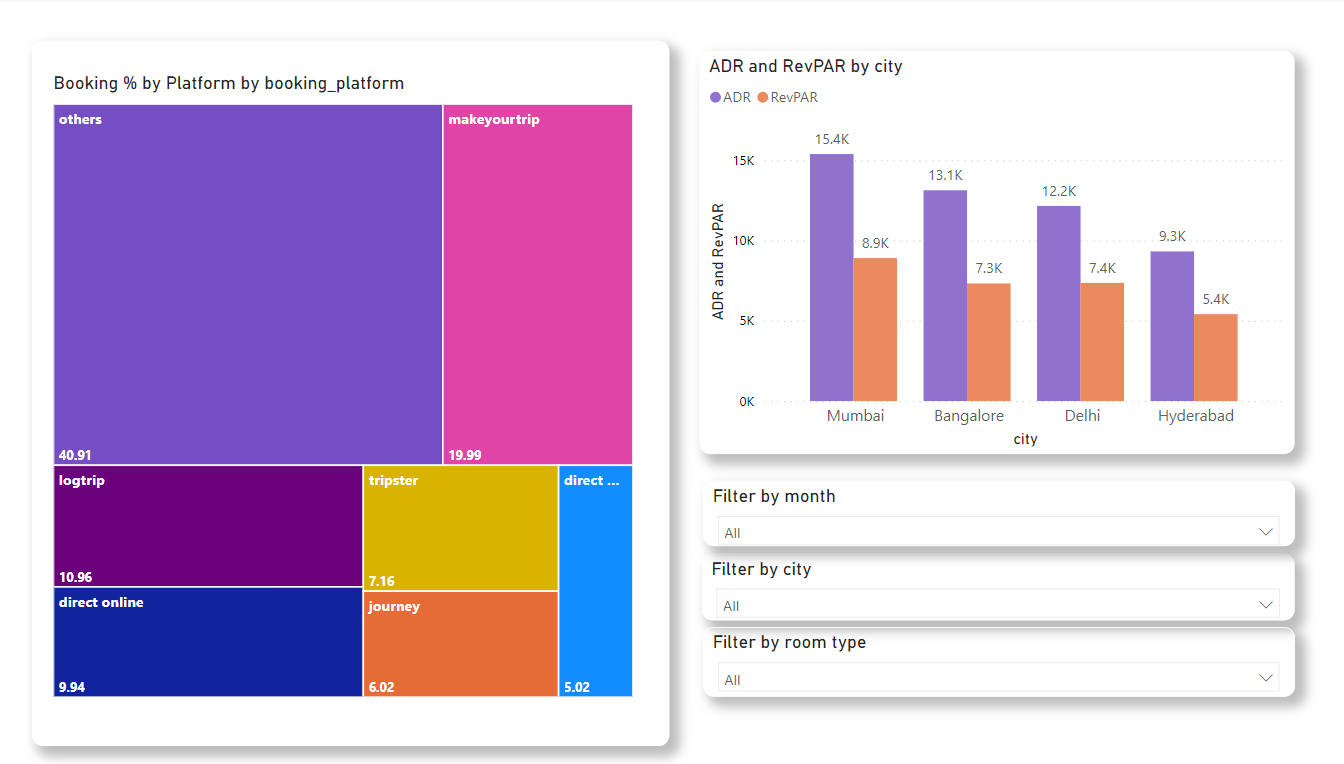

What the dashboard file says about the page in this screenshot:
{"tool":"powerbi","page":{"name":"Page 2","canvas":[1280,720],"ordinal":1},"visuals":[{"type":"shape","box":[46.5,40.7,593,655.8],"z":0},{"type":"treemap","fields":{"Group":["fact_bookings.booking_platform"],"Values":["Key_measures (2).Booking % by Platform"]},"box":[46.5,50,579.1,620.9],"z":1000},{"type":"clusteredColumnChart","fields":{"Y":["Key_measures (2).ADR","Key_measures (2).RevPAR"],"Category":["dim_hotels.city"]},"box":[667.4,50,553.5,375.6],"z":2000},{"type":"slicer","title":"Filter by city","fields":{"Values":["dim_hotels.city"]},"box":[669.8,517.4,551.2,62.8],"z":2001},{"type":"slicer","title":"Filter by room type","fields":{"Values":["dim_hotels.category"]},"box":[670.9,586,550,65.1],"z":2002},{"type":"slicer","title":"Filter by month","fields":{"Values":["dim_date.mmm yy"]},"box":[670.9,450,550,60.5],"z":2003}]}

Visuals, with their boxes in screenshot pixels (x1, y1, x2, y2), scaled from the page's 1280x720 canvas onto the 1344x764 screenshot:
shape: (49,43,671,739)
treemap - fact_bookings.booking_platform x Key_measures (2).Booking % by Platform: (49,53,657,712)
clusteredColumnChart - Key_measures (2).ADR x Key_measures (2).RevPAR: (701,53,1282,452)
"Filter by city" slicer: (703,549,1282,616)
"Filter by room type" slicer: (704,622,1282,691)
"Filter by month" slicer: (704,478,1282,542)
